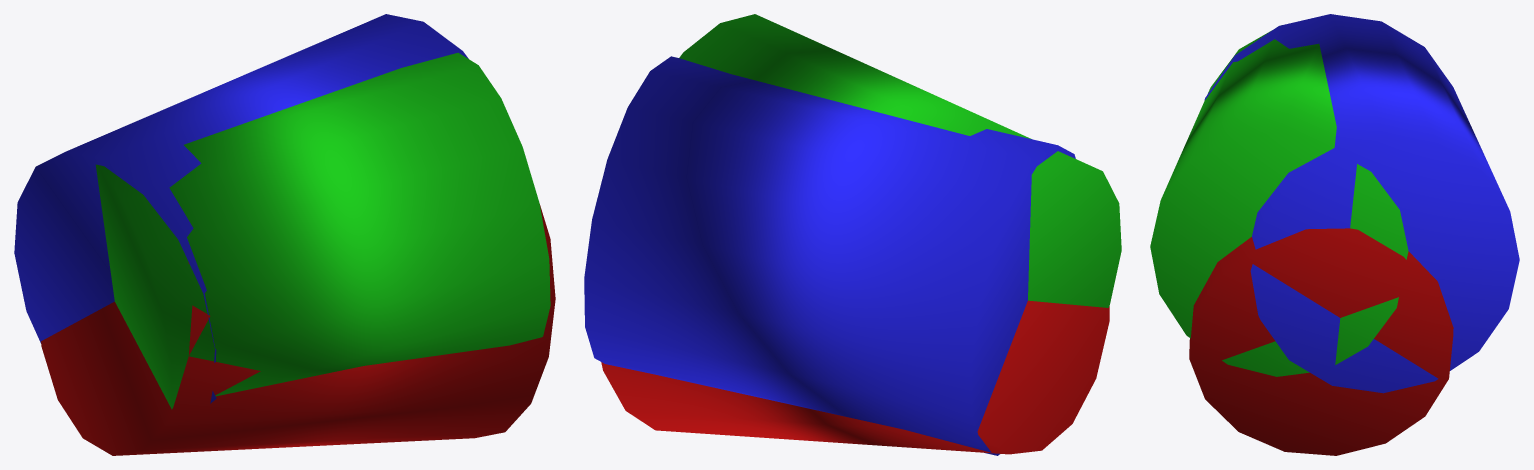
3 views of the same model, side by side, from view 1: azimuth 30°, elevation 25°; view 2: azimuth 150°, elevation 25°; view 3: azimuth 270°, elevation 25° (orthographic). The views are drawn at different scales.
Visible parts, largest first — view 1: rod_green, rod_red, rod_blue; view 2: rod_blue, rod_green, rod_red; view 3: rod_blue, rod_red, rod_green.
Part boxes in pixels (x1=…): rod_green: x1=95, y1=52, x2=550, y2=409; rod_red: x1=41, y1=204, x2=555, y2=455; rod_blue: x1=14, y1=14, x2=468, y2=403; rod_blue: x1=584, y1=56, x2=1075, y2=455; rod_green: x1=679, y1=14, x2=1121, y2=307; rod_red: x1=601, y1=300, x2=1109, y2=454; rod_blue: x1=1204, y1=14, x2=1519, y2=393; rod_red: x1=1189, y1=228, x2=1453, y2=455; rod_green: x1=1150, y1=30, x2=1408, y2=376.
Bounding box in the file's own units: 0.3176 × 0.2837 × 0.293.
